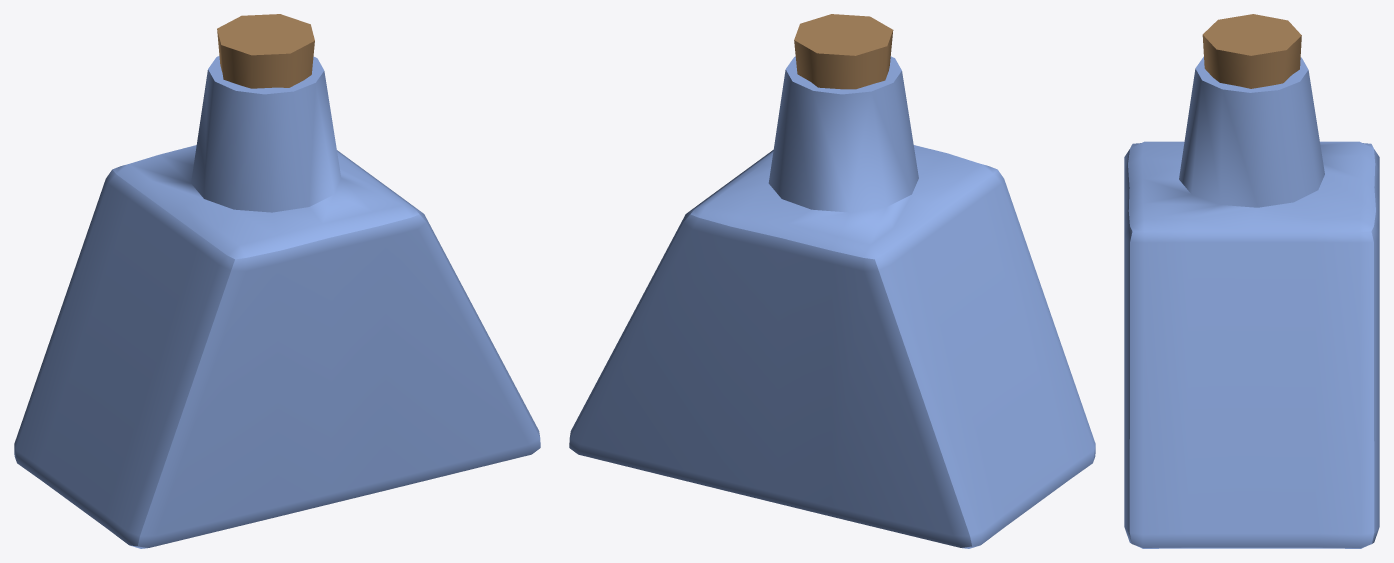
The model's file is Potion_Rectangular_Green.fbx.
3 views of the same model, side by side, from view 1: azimuth 30°, elevation 25°; view 2: azimuth 150°, elevation 25°; view 3: azimuth 270°, elevation 25° (orthographic). The views are drawn at different scales.
Visible parts, largest first — view 1: Rectangle_bottle, Rectangle_Cork; view 2: Rectangle_bottle, Rectangle_Cork; view 3: Rectangle_bottle, Rectangle_Cork.
Part boxes in pixels (x1,y1,x2,y2): Rectangle_bottle: [14, 56, 540, 548]; Rectangle_Cork: [217, 14, 314, 88]; Rectangle_bottle: [569, 56, 1095, 548]; Rectangle_Cork: [794, 14, 893, 89]; Rectangle_bottle: [1124, 56, 1379, 548]; Rectangle_Cork: [1202, 14, 1301, 88].
Bounding box in the file's own units: 0.3927 × 0.3912 × 0.2172.
